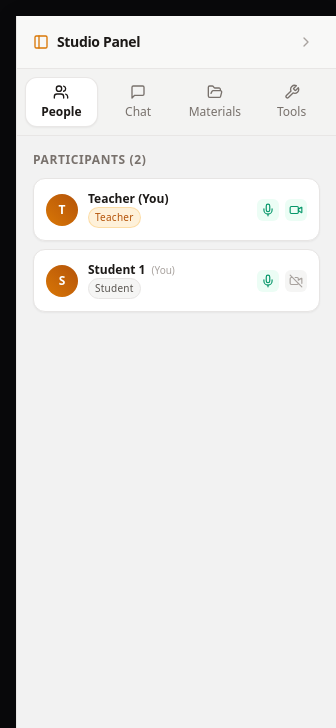
Scenario: StudioSidePanel Component (Collapsible 4-Tab Teaching Panel) › collapses and expands cleanly via collapse and expand buttons (uncontrolled)
// Click collapse button
Click the button with test id "collapse-panel-btn" at (306, 42), box [292, 28, 320, 56]
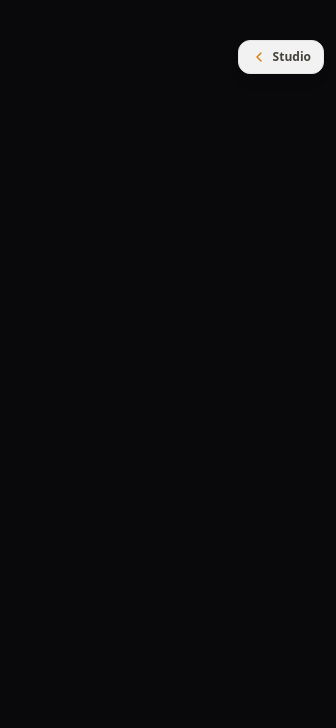
expect the button with test id "expand-panel-btn" is shown: met
// Click expand button to restore
Click the button with test id "expand-panel-btn" at (281, 57), box [238, 40, 324, 74]
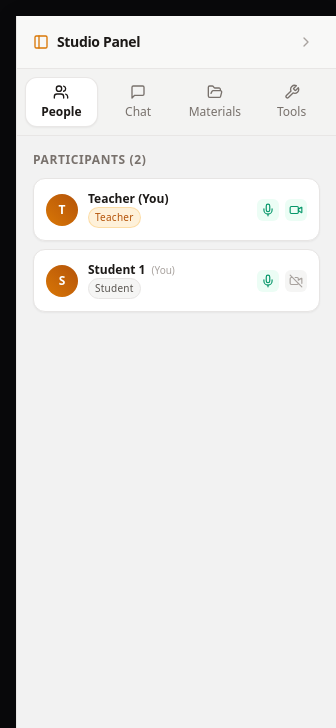
expect the element with test id "studio-side-panel" has attribute data-collapsed="false": met
expect the element with test id "studio-side-panel" has class "translate-x-0": met
